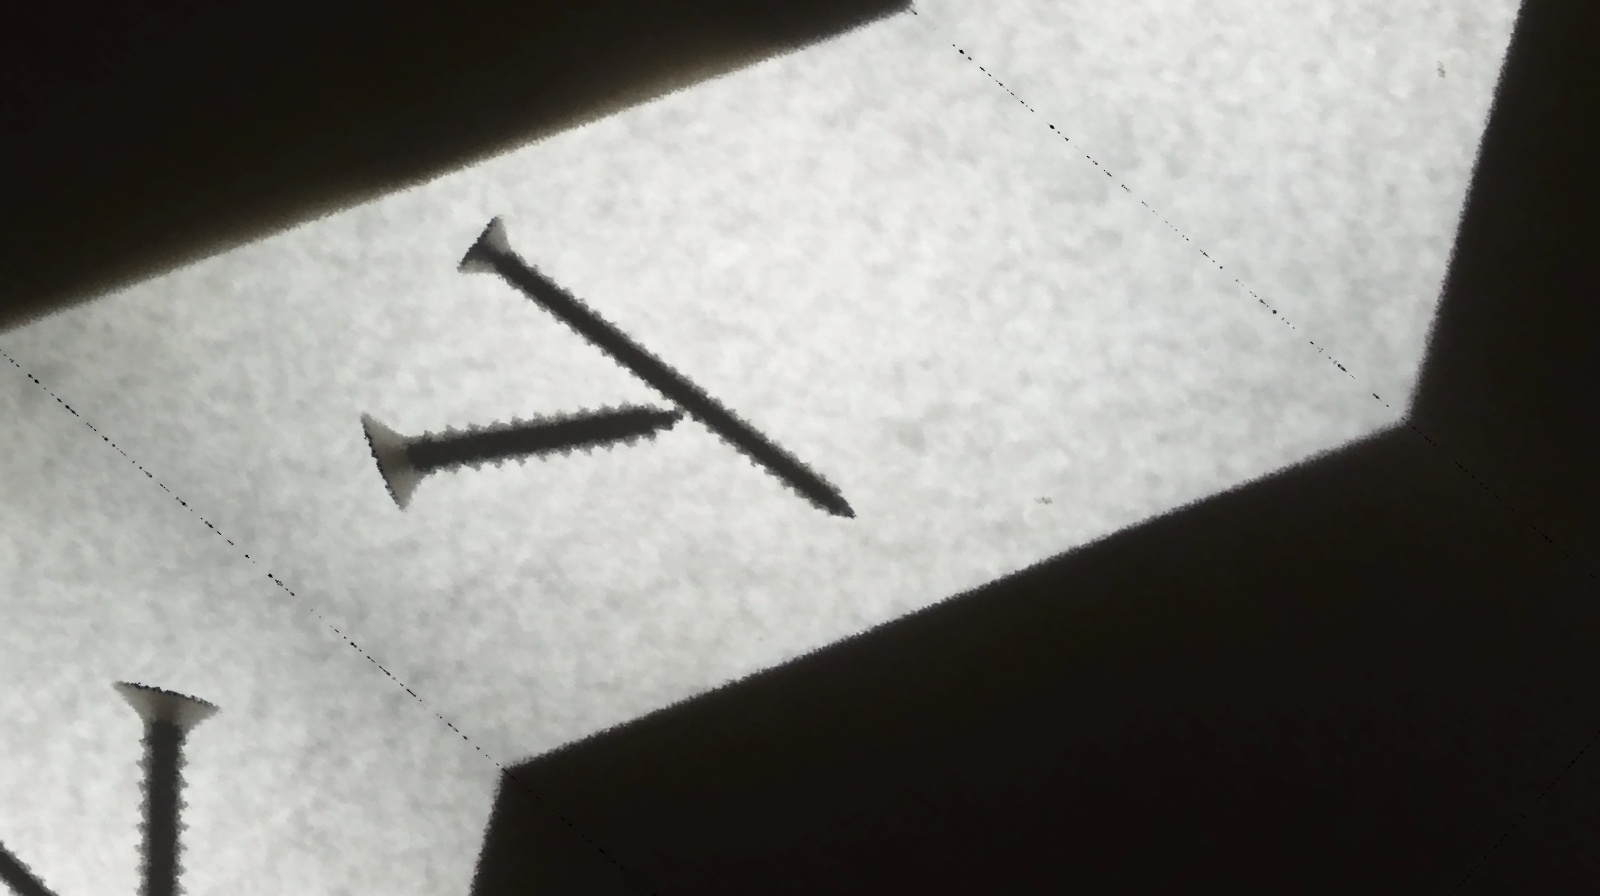S001: (321, 259, 688, 610)
S002: (441, 199, 871, 572)
